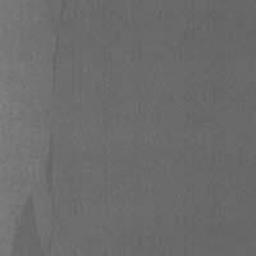Inclusion: (9, 140, 59, 256), (50, 0, 68, 95)
